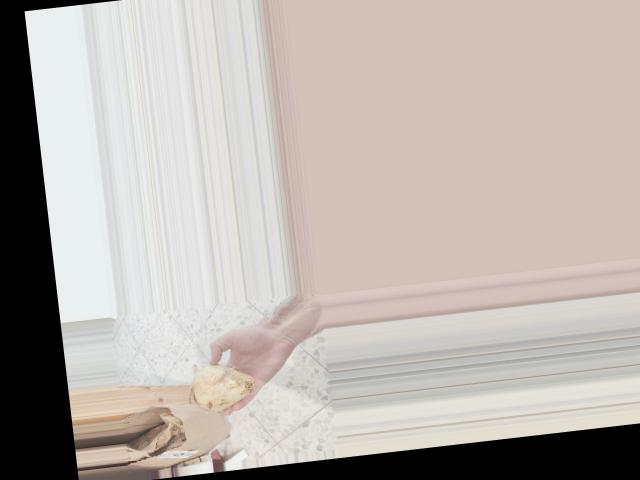onion: (186, 357, 261, 416)
